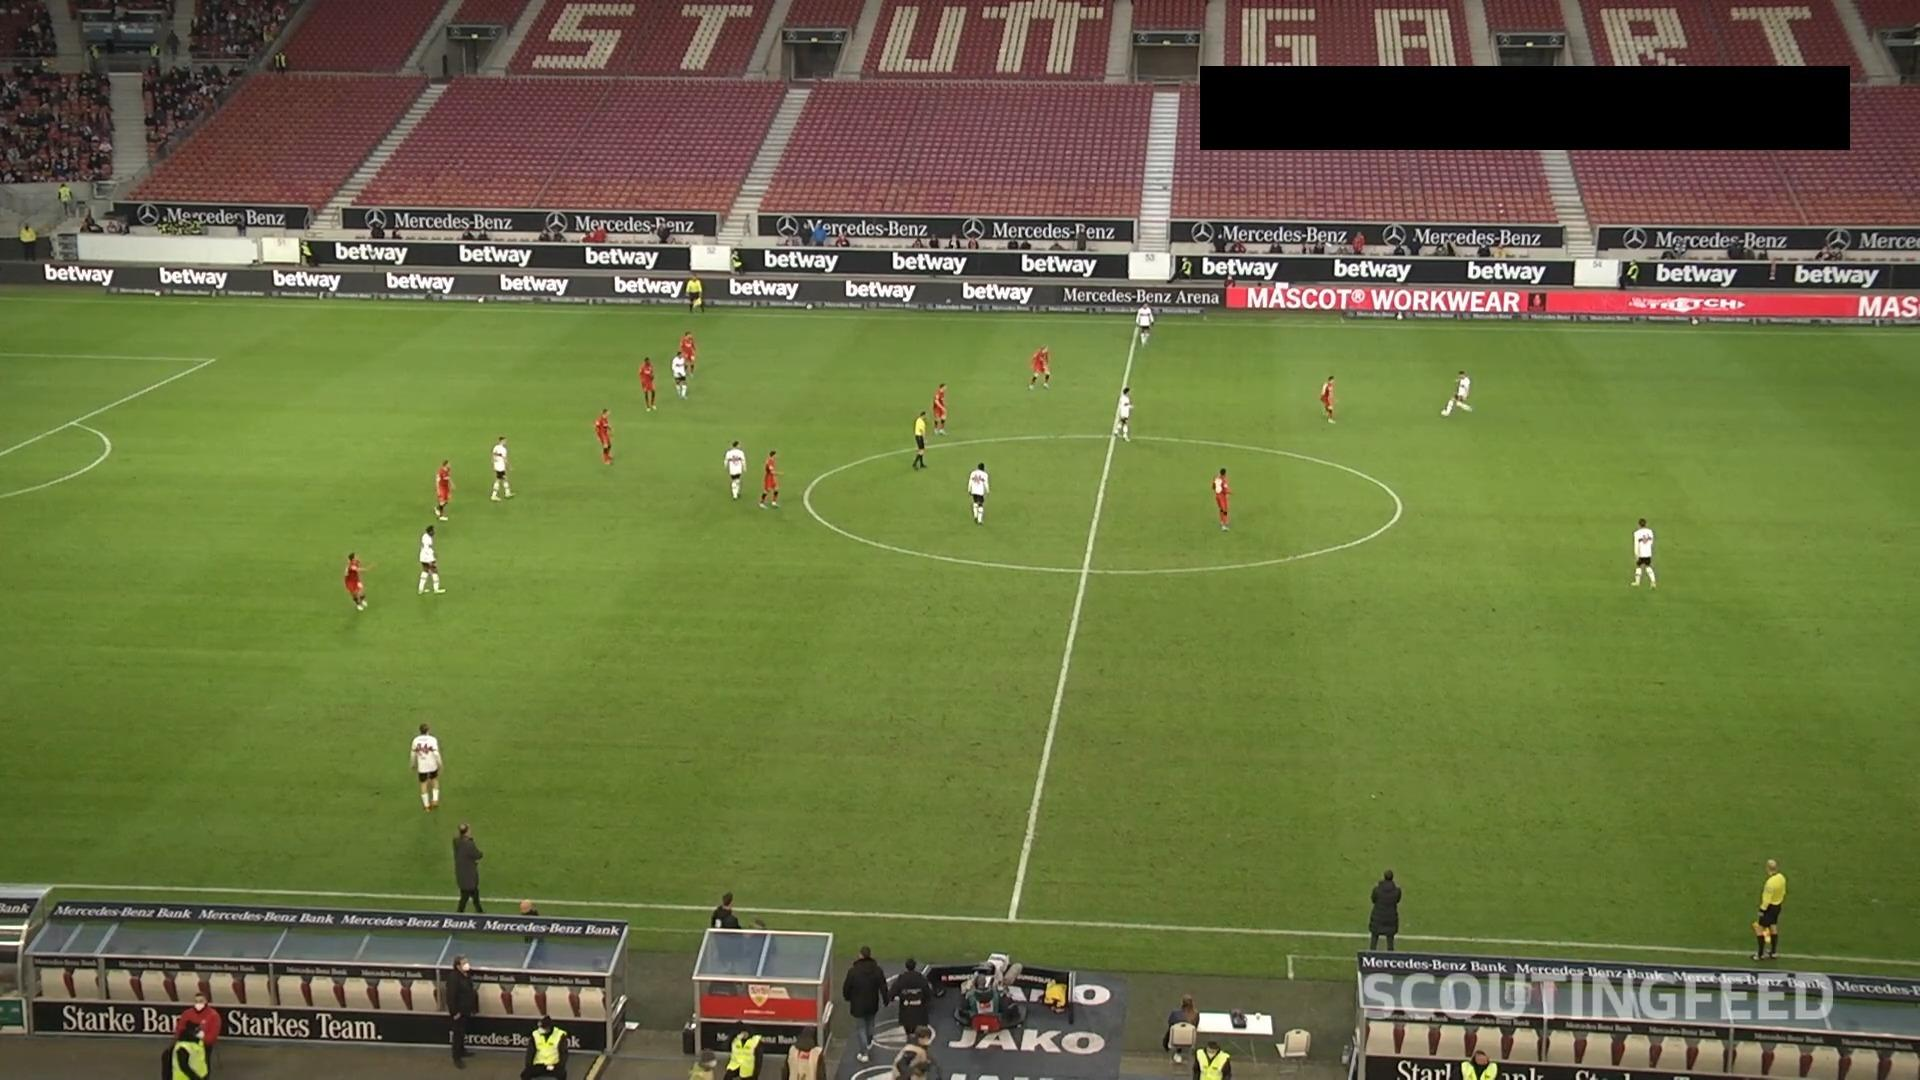ball: (1439, 406, 1451, 419)
